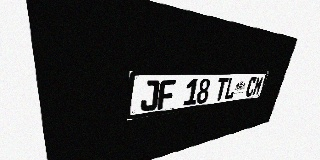1: (183, 79, 200, 106)
8: (196, 78, 212, 104)
C: (245, 77, 257, 97)
F: (157, 79, 176, 110)
J: (140, 80, 160, 112)
L: (224, 77, 238, 100)
M: (252, 76, 264, 96)
T: (214, 78, 229, 101)
